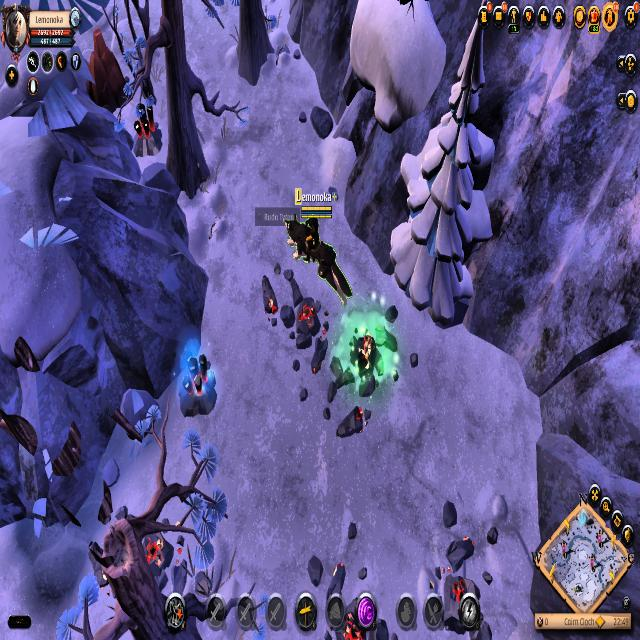ore tier 5: (178, 346, 218, 418), (130, 102, 160, 161)
